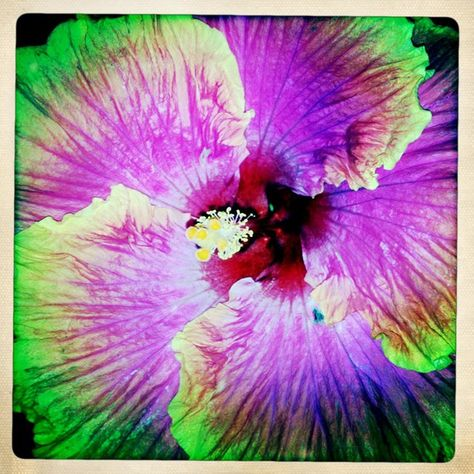Hibiscus: (14, 11, 457, 461)
